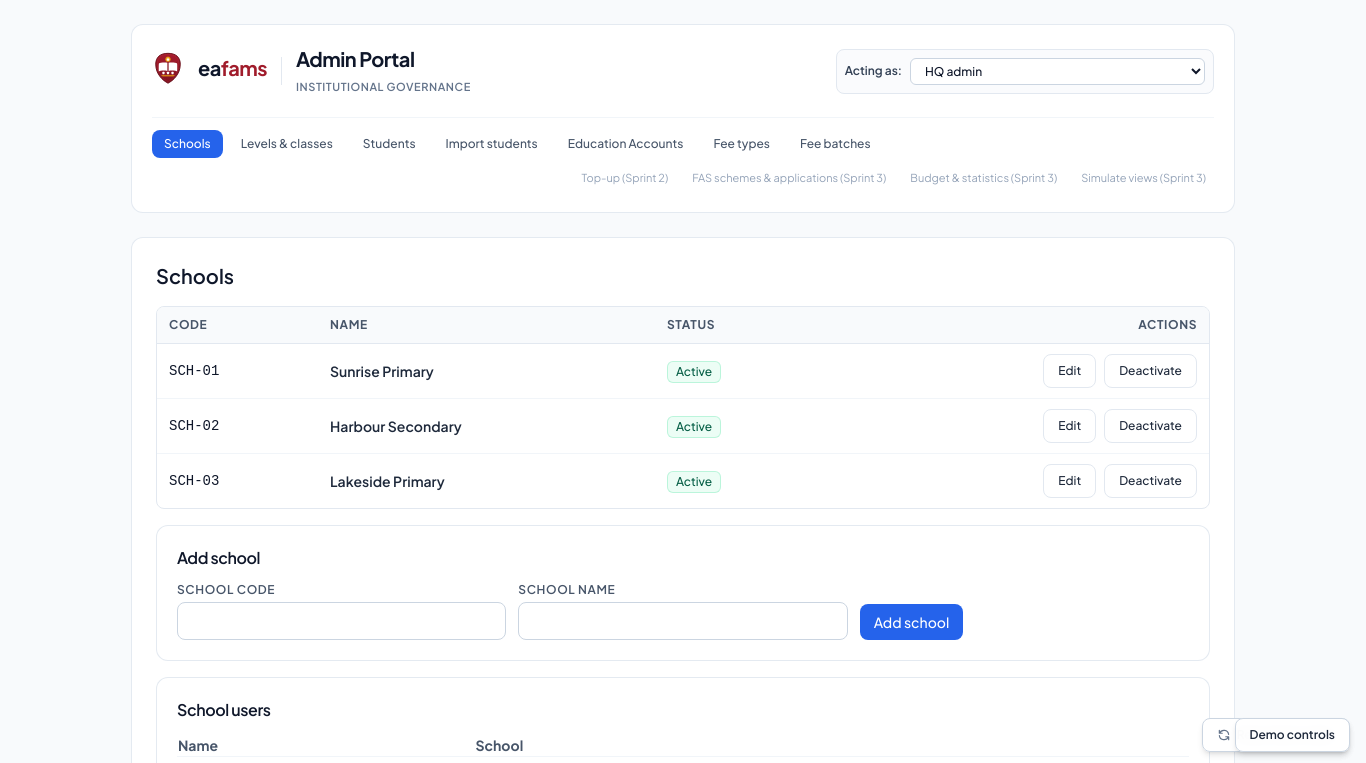
it: schools page › HQ edits a school name and code
Click the button with aria-label "edit sunrise primary": (1070, 371) [1043,354,1096,388]
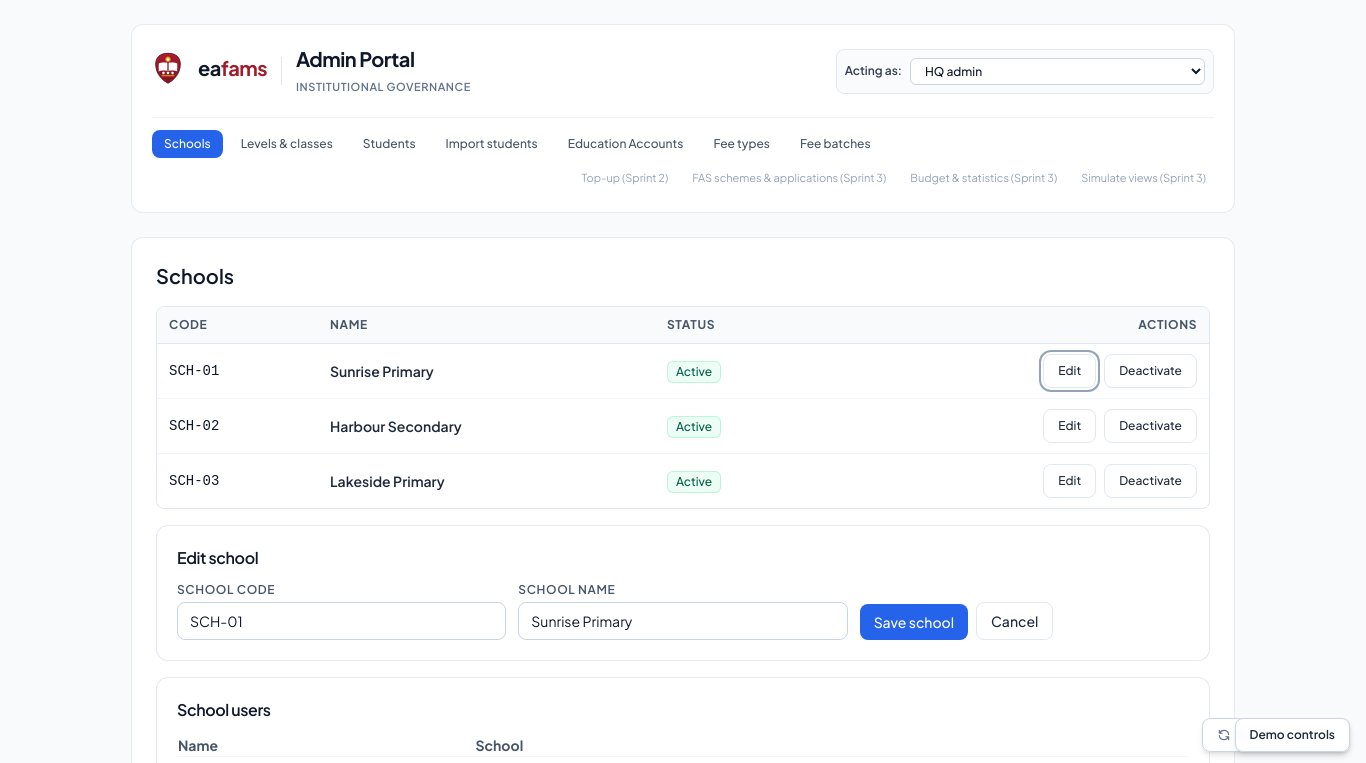
Check: the field labelled "School name" holds "Sunrise Primary"
Replace the text in the field labelled "School name" with "Sunrise Primary School": (683, 621) [518,602,848,640]
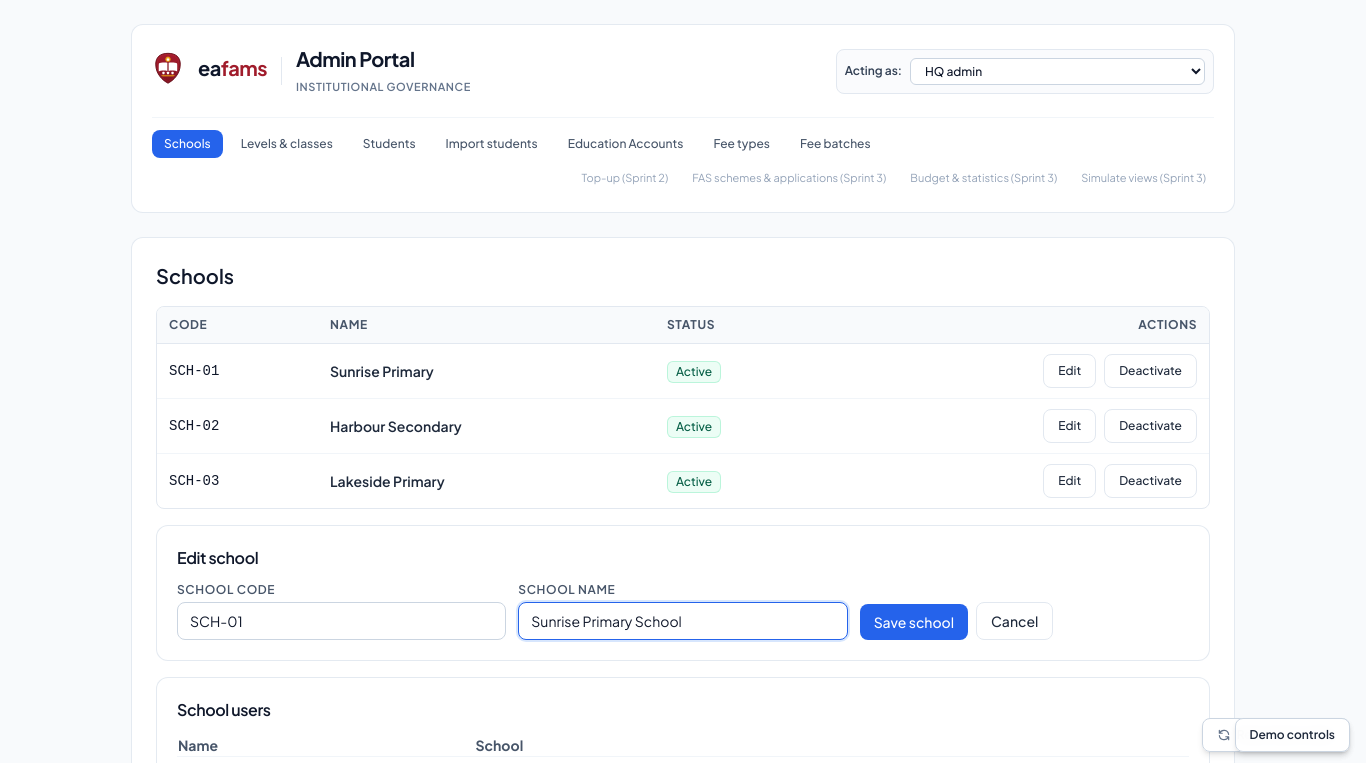
Click the button "Save school": (914, 622) [860,604,968,640]
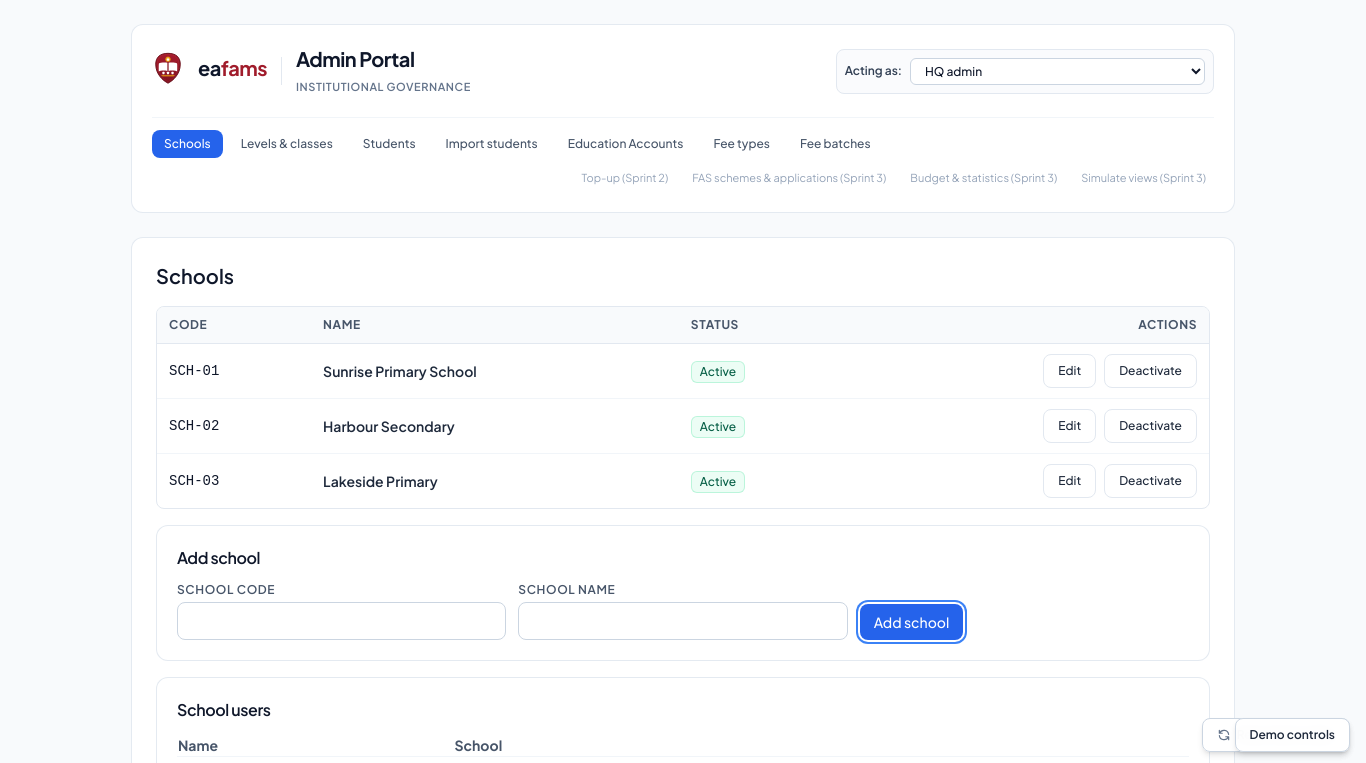
Check: the text "Sunrise Primary School" is shown, box [311,344,679,398]
Check: the button "Add school" is shown, box [860,604,963,640]
